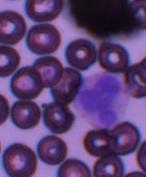N: (74, 72, 130, 128)
